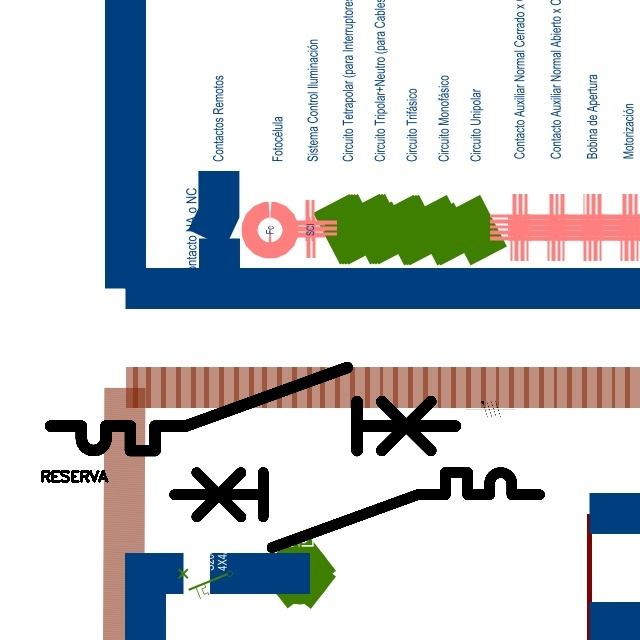interruptor_termomagnetico: (40, 357, 466, 461), (165, 463, 549, 557)
